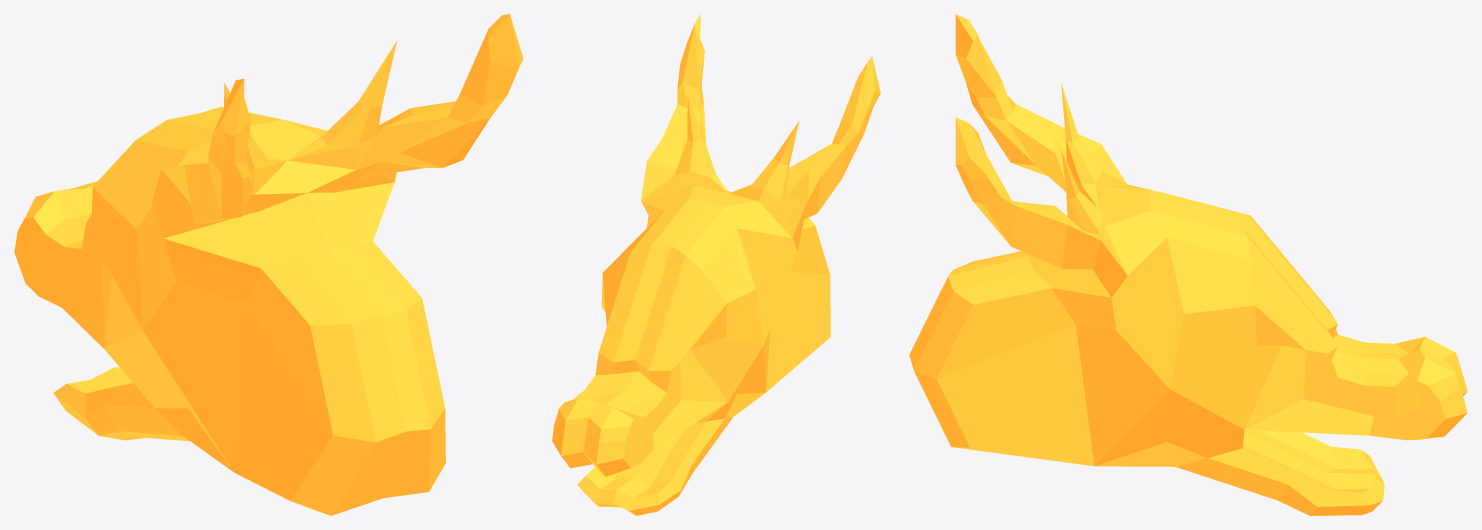
File: flame_dragon_head.glb
3 views of the same model, side by side, from view 1: azimuth 30°, elevation 25°; view 2: azimuth 150°, elevation 25°; view 3: azimuth 270°, elevation 25° (orthographic). The views are drawn at different scales.
Visible parts, largest first — view 1: dragon_head; view 2: dragon_head; view 3: dragon_head.
Boxes of the visible parts, <box> form: dragon_head: <box>14,14,523,515</box>; dragon_head: <box>552,14,880,515</box>; dragon_head: <box>909,14,1467,515</box>.
Bounding box in the file's own units: 1.08 × 1.9 × 2.19.
